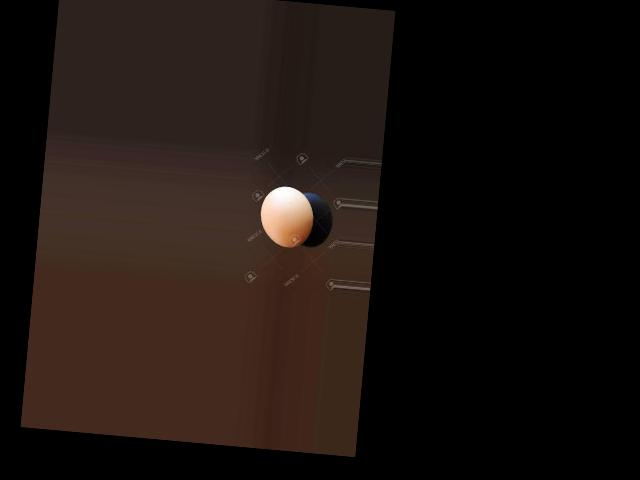egg: (258, 184, 316, 249)
